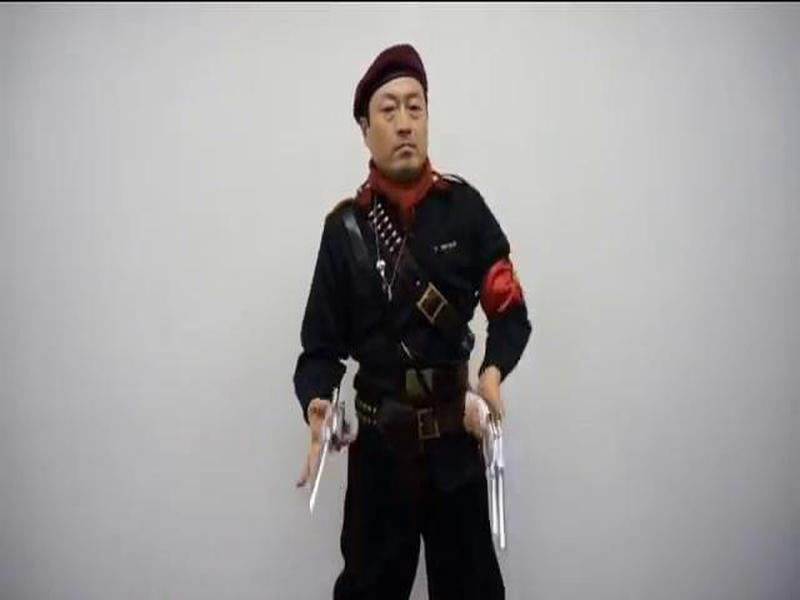Revolver: (452, 383, 534, 557), (298, 382, 368, 530)
